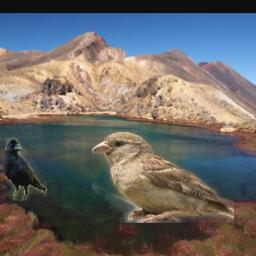Crow: (5, 138, 47, 201)
Sparrow: (92, 130, 234, 223)
